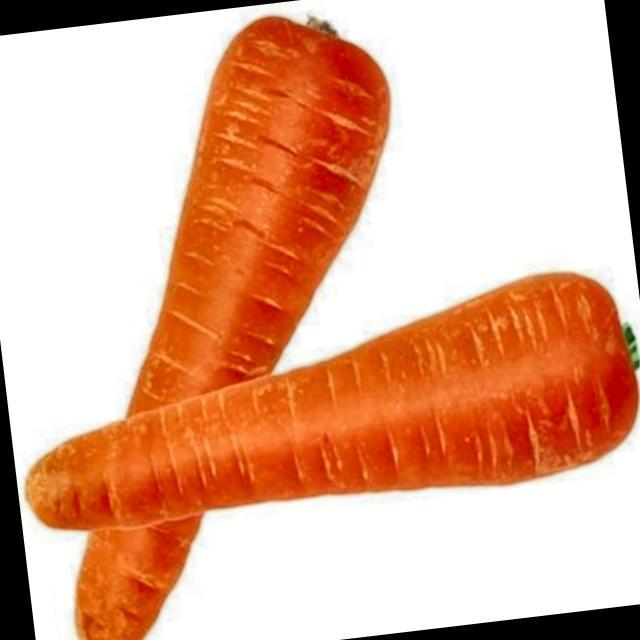carrot: (77, 18, 390, 640), (28, 274, 638, 529)
